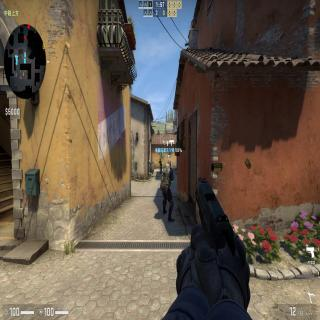CT-Body: (160, 160, 176, 221)
CT-Head: (168, 160, 172, 168)
